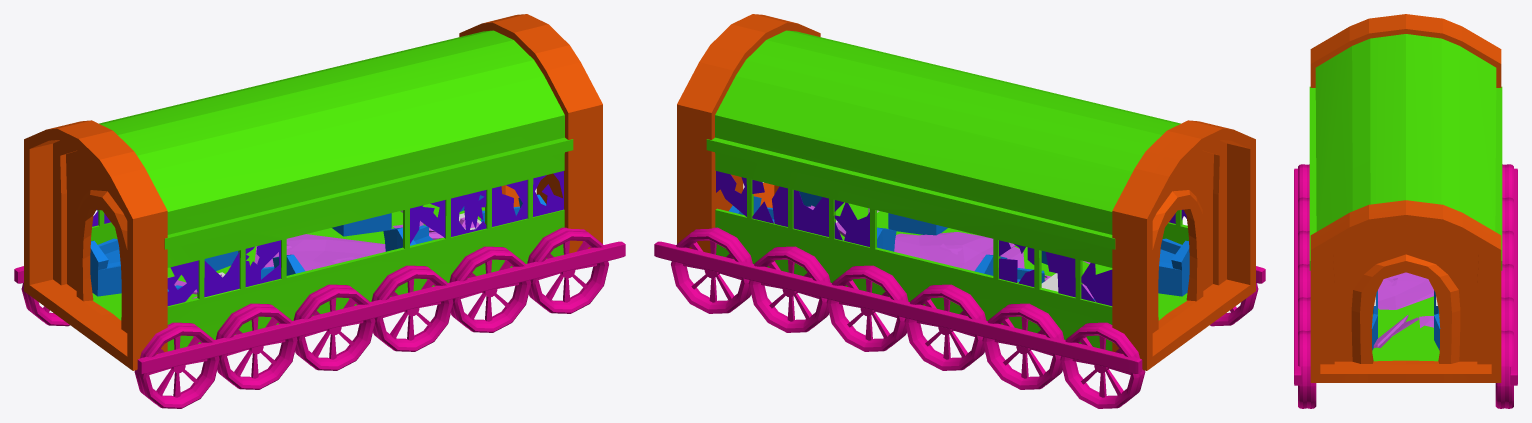
Rendered from train_car.fbx.
3 views of the same model, side by side, from view 1: azimuth 30°, elevation 25°; view 2: azimuth 150°, elevation 25°; view 3: azimuth 270°, elevation 25° (orthographic). The views are drawn at different scales.
Parts seen in each view (by area): view 1: Cube.037, Cube.031, Torus.005, Cube.047, Plane, Cube.042, Chair.003, Gunk; view 2: Cube.037, Cube.031, Torus.005, Cube.047, Plane, Cube.042, Chair.003, Gunk; view 3: Cube.037, Cube.031, Torus.005, Cube.042, Cube.047, Gunk, Chair.003, Plank03.
Boxes of the visible parts, x1,y1,x2,y2 form: Cube.037: (91,30,564,351); Cube.031: (24,14,602,370); Torus.005: (21,227,608,408); Cube.047: (14,241,625,373); Plane: (92,171,563,305); Cube.042: (164,137,573,249); Chair.003: (90,194,546,300); Gunk: (254,234,385,270); Cube.037: (715,30,1188,351); Cube.031: (677,14,1255,370); Torus.005: (671,227,1258,408); Cube.047: (654,241,1265,373); Plane: (716,171,1186,305); Cube.042: (706,137,1115,249); Chair.003: (729,191,1189,300); Gunk: (894,232,1024,270); Cube.037: (1315,34,1496,361); Cube.031: (1310,14,1501,382); Torus.005: (1298,164,1513,408); Cube.042: (1309,86,1502,270); Cube.047: (1294,168,1517,385); Gunk: (1378,272,1433,309); Chair.003: (1371,290,1440,350); Plank03: (1373,315,1418,347).
Bounding box in the file's own units: 2861 × 1335 × 1309.
